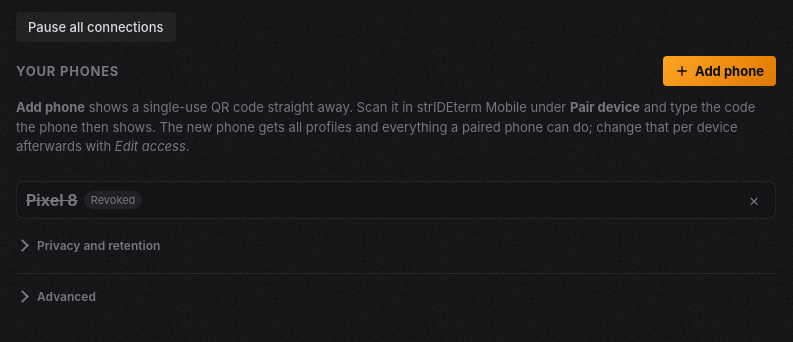
Test: SettingsMobileTab › a refusal is shown beside the row rather than swallowed
Click the button with class "device-item__forget": (754, 200) [742,188,766,212]
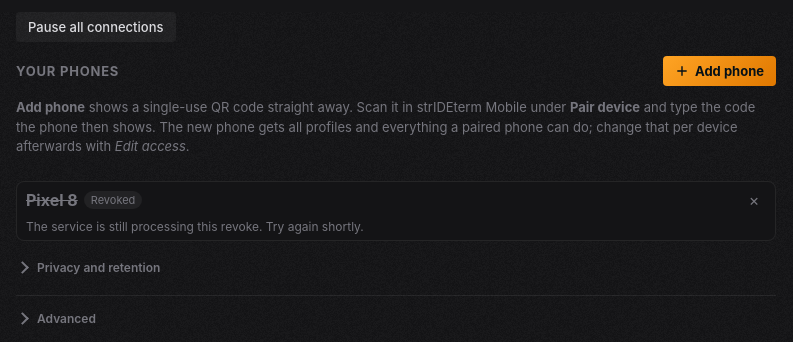
Now the text "The service is still processing this revoke" is shown, box [26,218,364,234]
